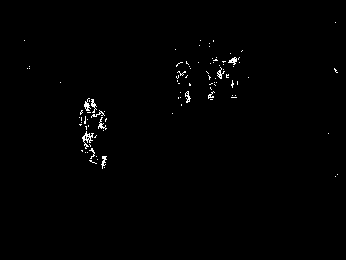person: (79, 98, 108, 169), (175, 60, 192, 106), (207, 55, 222, 101)
